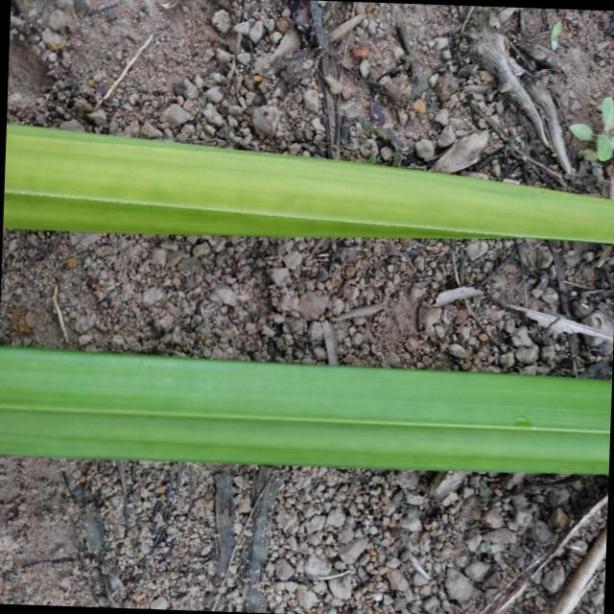nitrogen: (0, 122, 614, 251)
